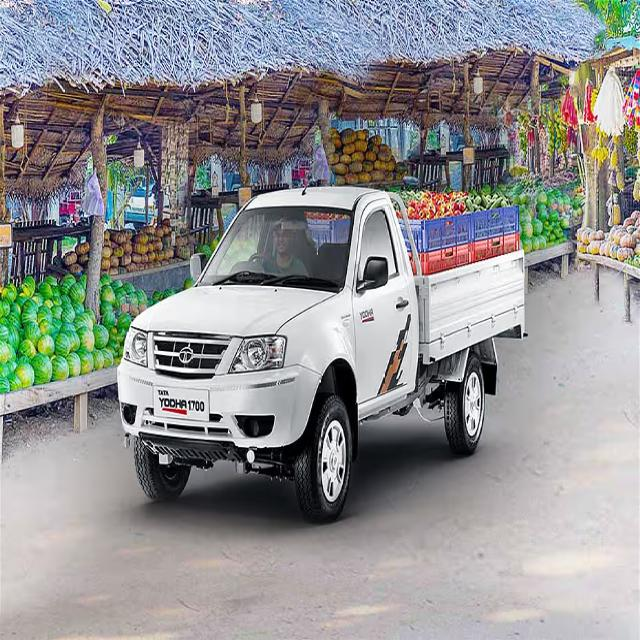Vehicles: (112, 172, 548, 549)
